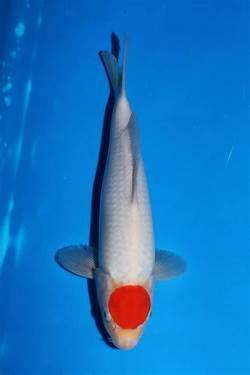sun: (55, 34, 188, 351)
